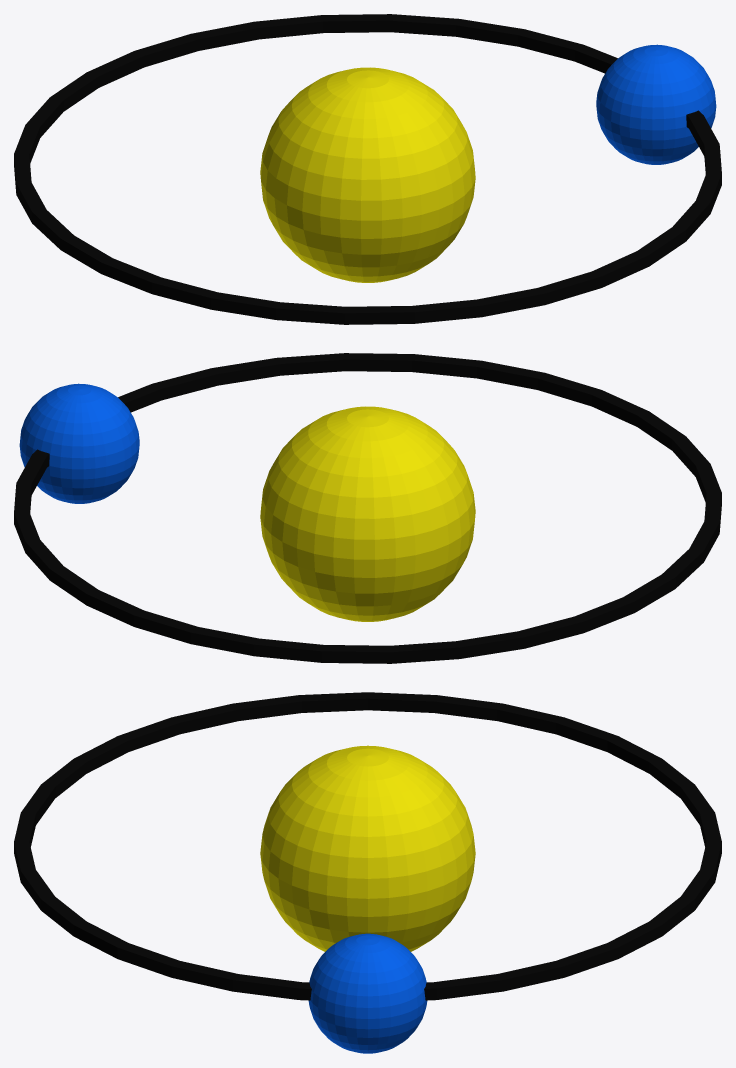
Rendered from Hayden_SceneIcon_PhysicsIcon.fbx.
The picture shows the model from 3 angles, top to bottom: view 1: azimuth 30°, elevation 25°; view 2: azimuth 150°, elevation 25°; view 3: azimuth 270°, elevation 25°; orthographic projection.
Parts seen in each view (by area): view 1: Sphere.001, Circle, Sphere; view 2: Sphere.001, Circle, Sphere; view 3: Sphere.001, Circle, Sphere.
Part boxes in pixels (left/top/right/bottom): Sphere.001: left=260, top=67, right=475, bottom=282; Circle: left=14, top=14, right=721, bottom=324; Sphere: left=596, top=44, right=716, bottom=164; Sphere.001: left=260, top=406, right=475, bottom=621; Circle: left=14, top=353, right=721, bottom=663; Sphere: left=19, top=383, right=139, bottom=503; Sphere.001: left=260, top=745, right=475, bottom=951; Circle: left=14, top=692, right=721, bottom=1000; Sphere: left=308, top=933, right=427, bottom=1053.
Size of the model in its own units: 693 by 200 by 657.
